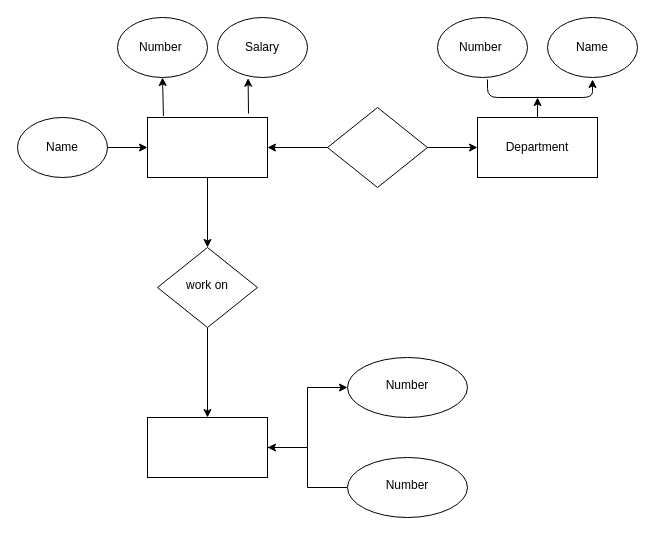
The diagram is 655 pixels wide and 535 high, and some of its shapes have lost their labels. Here are the shapes that lost their labels. From the top down, the box of each, then its label:
(146, 116, 268, 178): Employee
(326, 106, 428, 188): works as
(146, 416, 268, 478): Project
